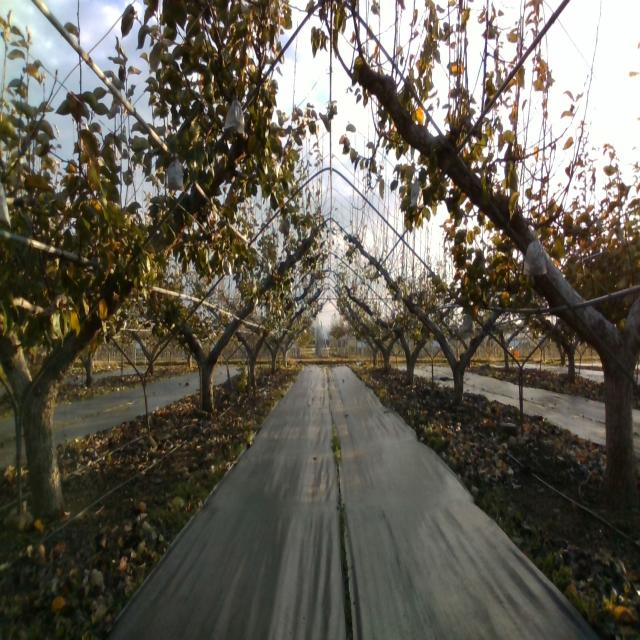pearbags: (523, 233, 547, 276), (224, 95, 245, 134), (167, 152, 184, 193), (410, 178, 424, 209), (462, 308, 474, 336), (278, 216, 290, 237)
